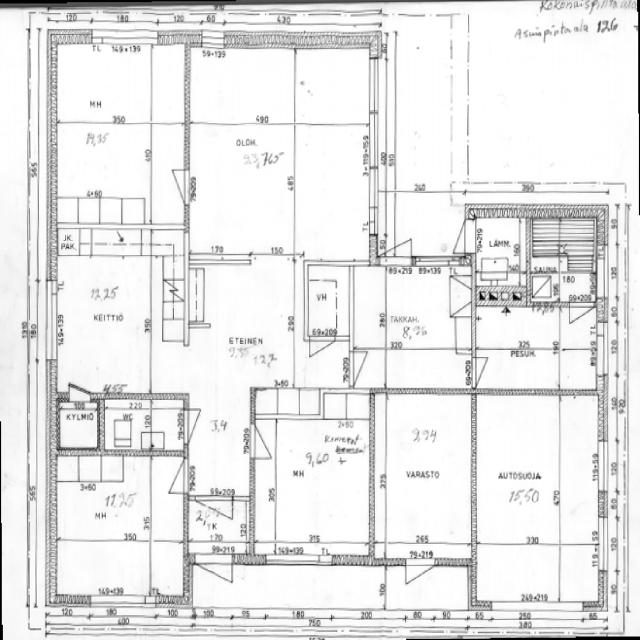door: (388, 233, 417, 264), (402, 558, 439, 580), (167, 461, 189, 496), (66, 380, 95, 405)
window: (39, 278, 60, 369), (88, 596, 150, 617), (366, 56, 384, 116), (596, 434, 613, 495), (260, 553, 324, 569), (596, 320, 610, 380), (414, 252, 456, 269)
zone: (251, 399, 374, 561), (51, 233, 159, 401), (376, 388, 474, 559), (188, 259, 298, 398), (50, 123, 172, 226), (392, 16, 453, 198), (294, 124, 374, 260), (50, 44, 163, 125), (53, 453, 153, 544), (381, 265, 469, 362), (476, 300, 560, 390), (295, 48, 372, 125), (99, 398, 186, 454), (186, 496, 252, 557), (530, 216, 598, 272), (306, 262, 351, 342), (472, 216, 528, 274), (559, 543, 604, 607), (56, 401, 100, 451), (558, 348, 600, 392), (555, 272, 596, 303)
